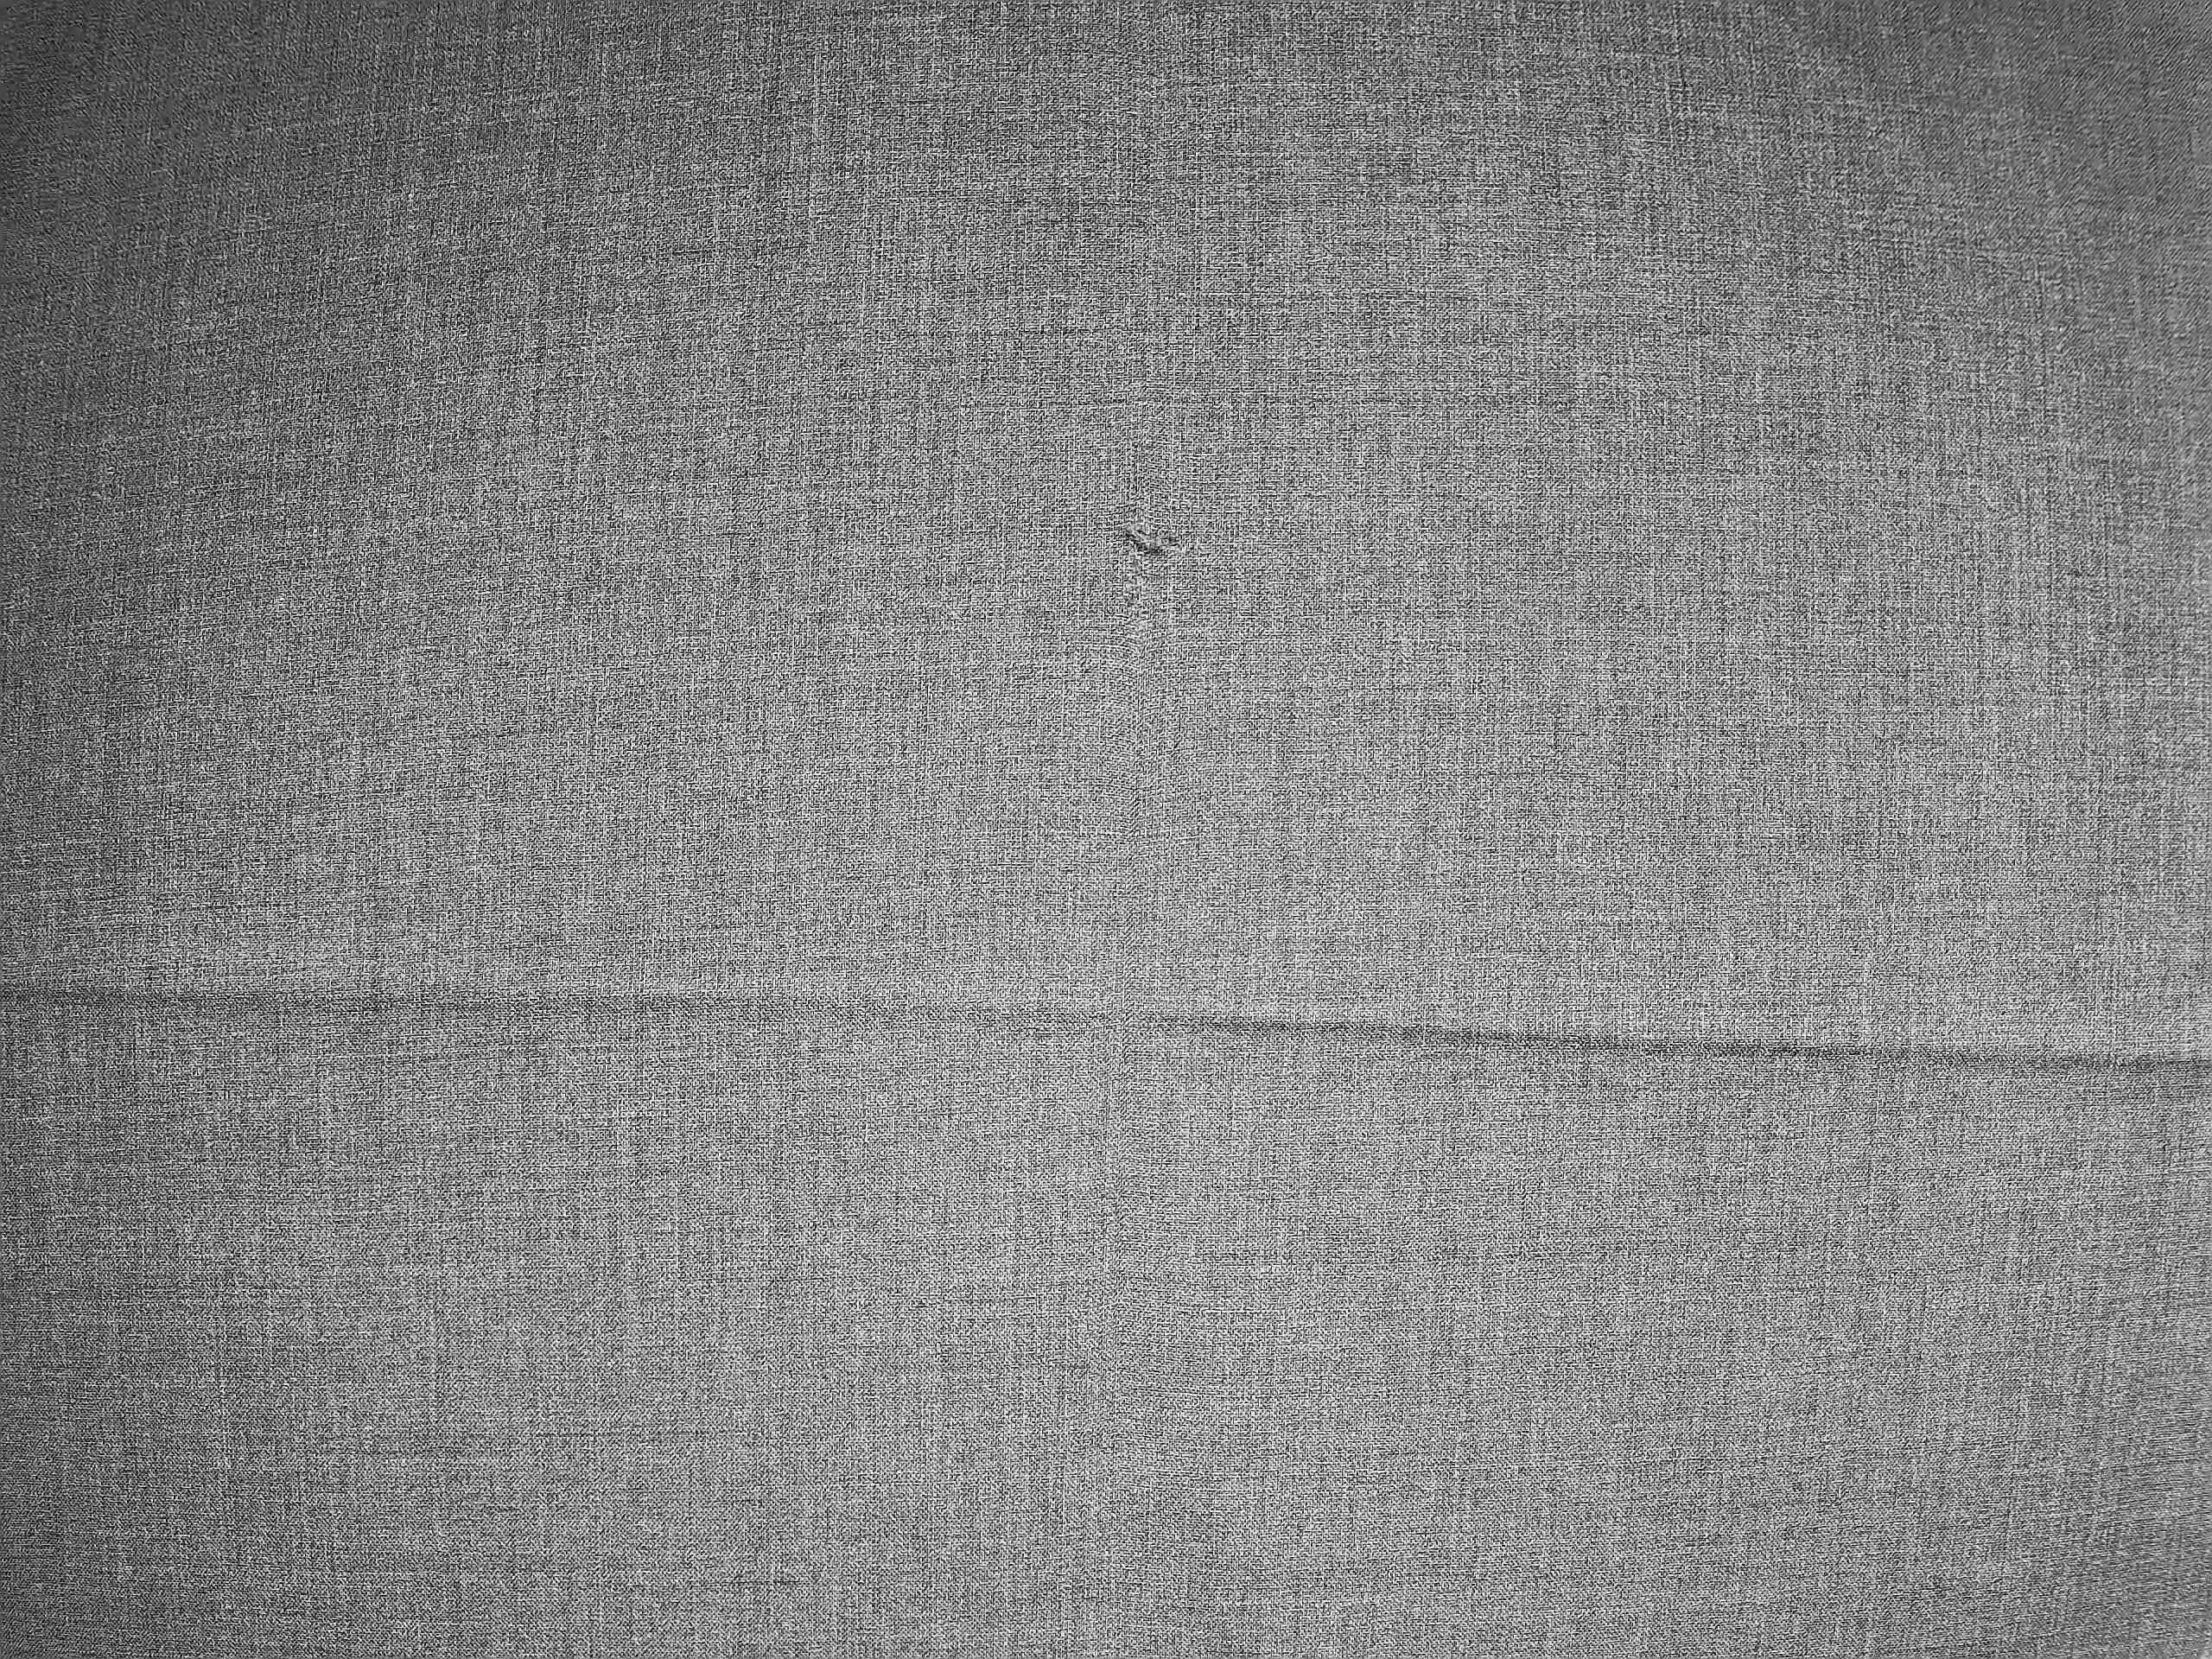hanging-warp: (1104, 436, 1198, 640)
